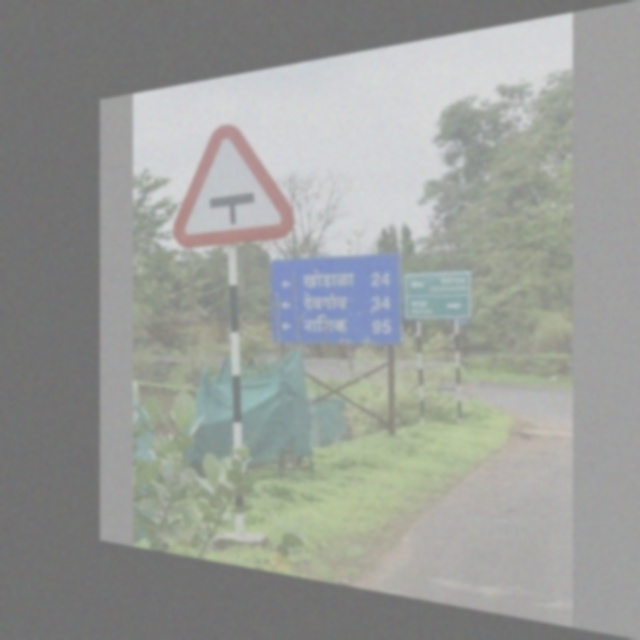T_Intersection: (172, 118, 298, 245)
